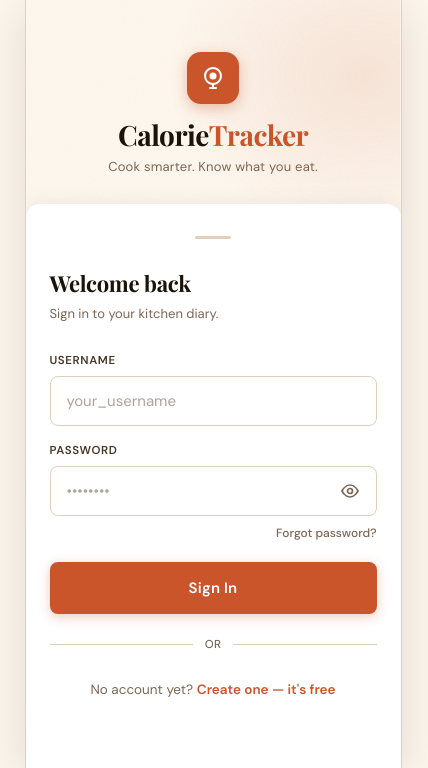
LoginPage — error handling › shows a generic error message on 401
In the field labelled "Username": (213, 401) [50,376,376,426], type "alice"
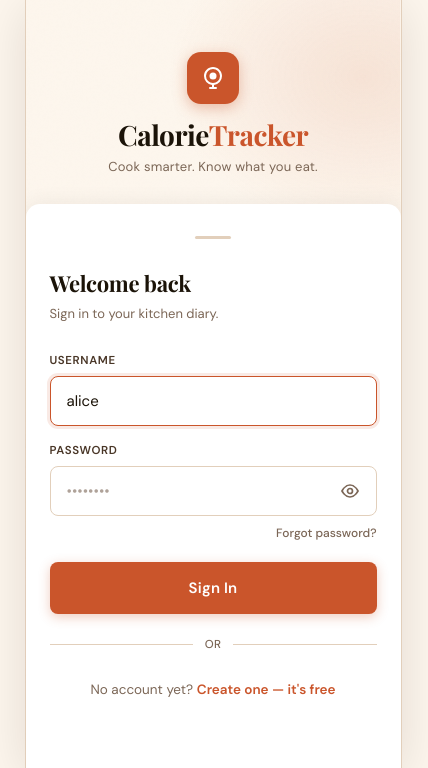
In the password field labelled "Password": (213, 491) [50,466,376,516], type "wrong"
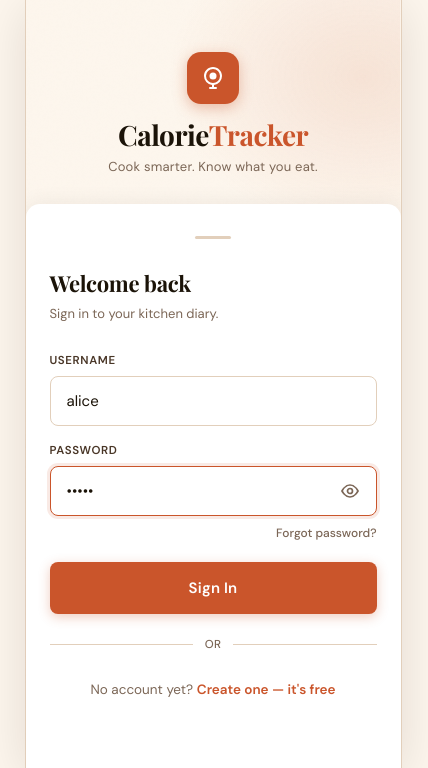
Click the button "Sign In": (213, 588) [50,562,376,614]
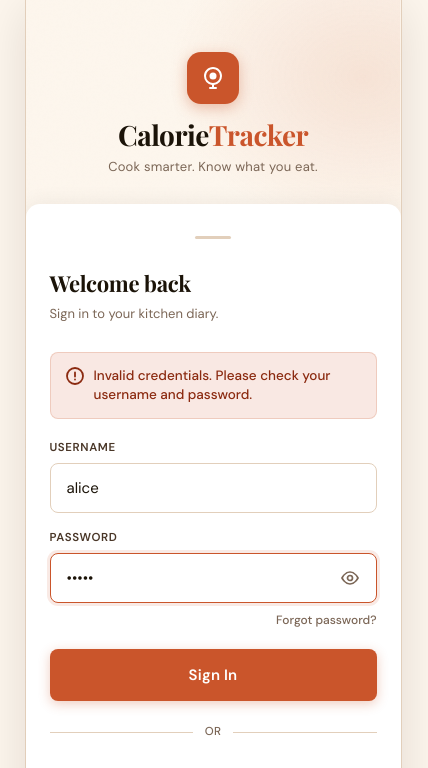
Expected: the text "Invalid credentials" is shown, [94,367,330,403]
